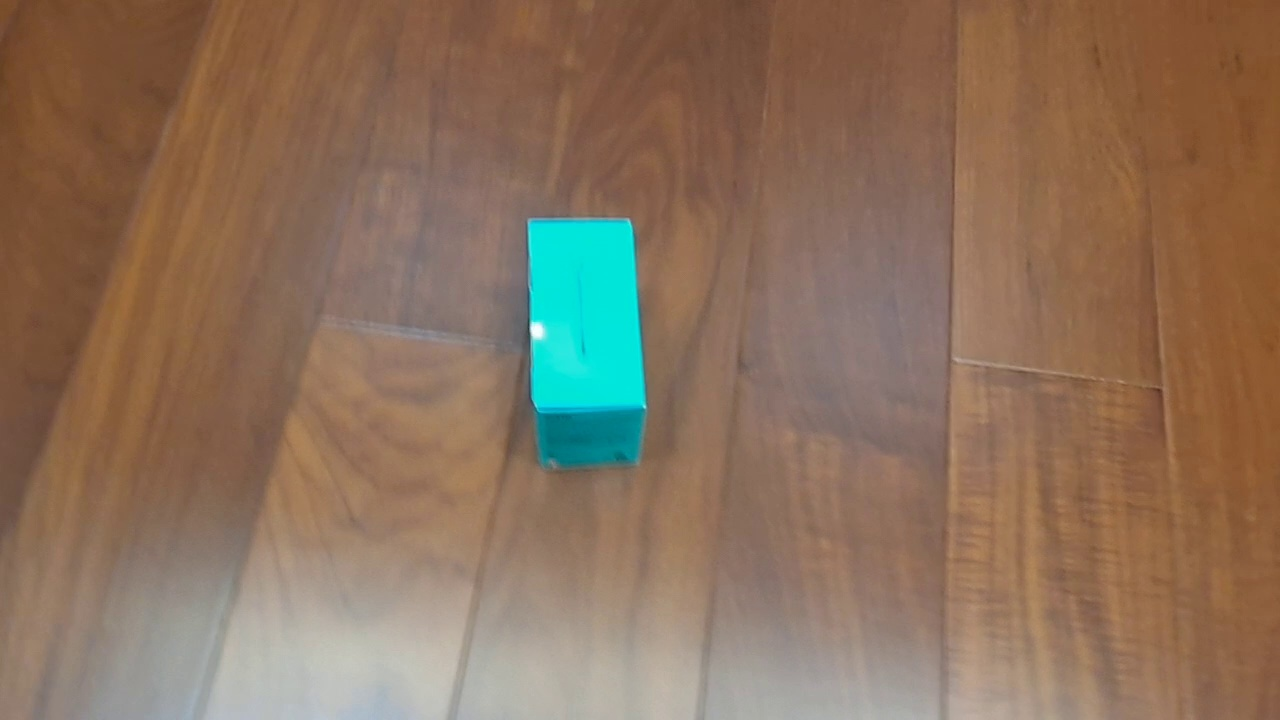webcam: (525, 217, 648, 473)
